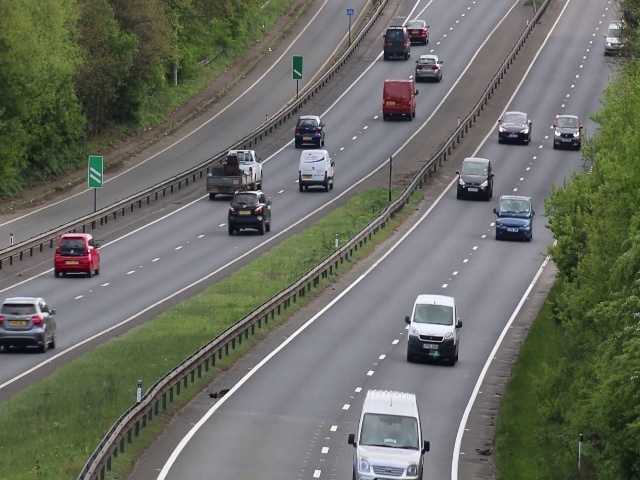car: (355, 389, 424, 480), (406, 292, 459, 368), (204, 144, 264, 198), (1, 297, 57, 352), (225, 185, 271, 238), (55, 233, 99, 280), (494, 196, 536, 240), (296, 147, 336, 193), (379, 79, 418, 122), (457, 157, 494, 201), (549, 111, 583, 152), (292, 113, 327, 148), (496, 109, 530, 145), (381, 26, 410, 63), (417, 51, 441, 83), (406, 21, 429, 44), (605, 19, 618, 53)
